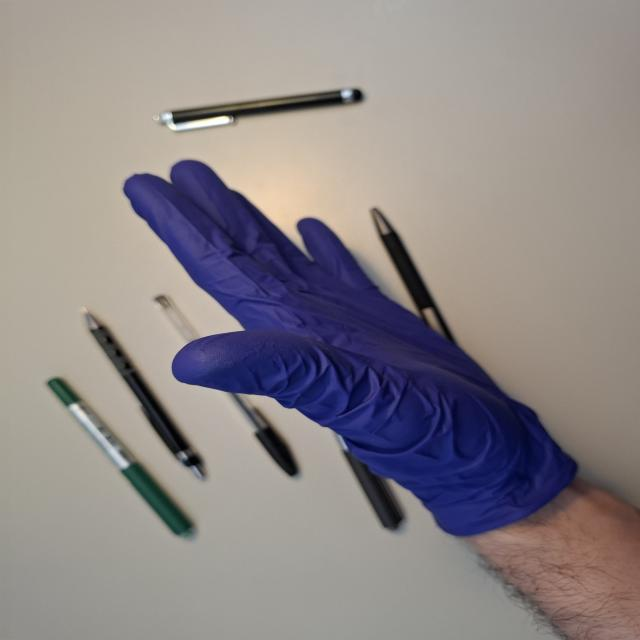glove_on: (118, 155, 577, 539)
